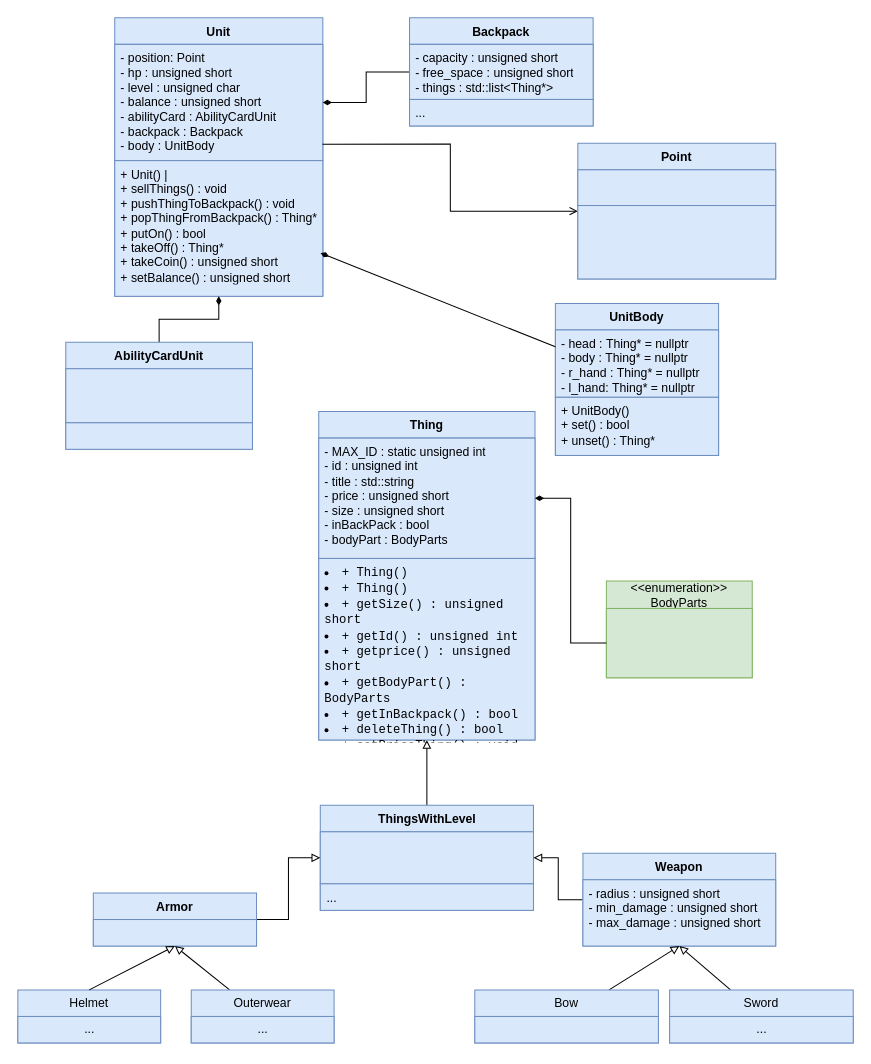
Some shapes in this 871 by 1064 pixel diagram are drawn without their labels. Each missing label, with the centre of its shape:
+ Point() + set() : void + getX() : unsigned short + getY() : unsigned short: the point at 676,242
- durability : unsigned short: the point at 174,932
- endurance : unsigned short - force : unsigned short - speed : unsigned short: the point at 158,395
- MAX_LVL : const unsigned short - lvl : unsigned short: the point at 426,857
- min_distance : unsigned short: the point at 566,1029
- x : unsigned short - y : unsigned short: the point at 676,187
... (getters): the point at 158,435
HEAD BODY R_HAND L_HAND: the point at 678,642
